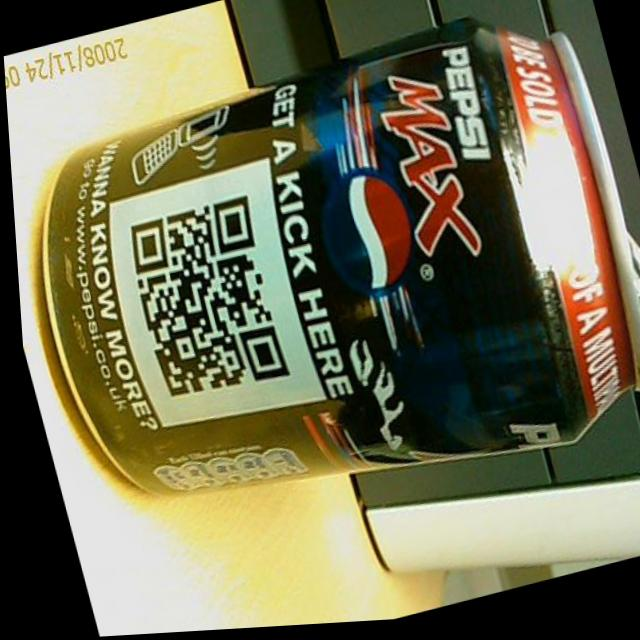qrcode: (118, 199, 289, 408)
